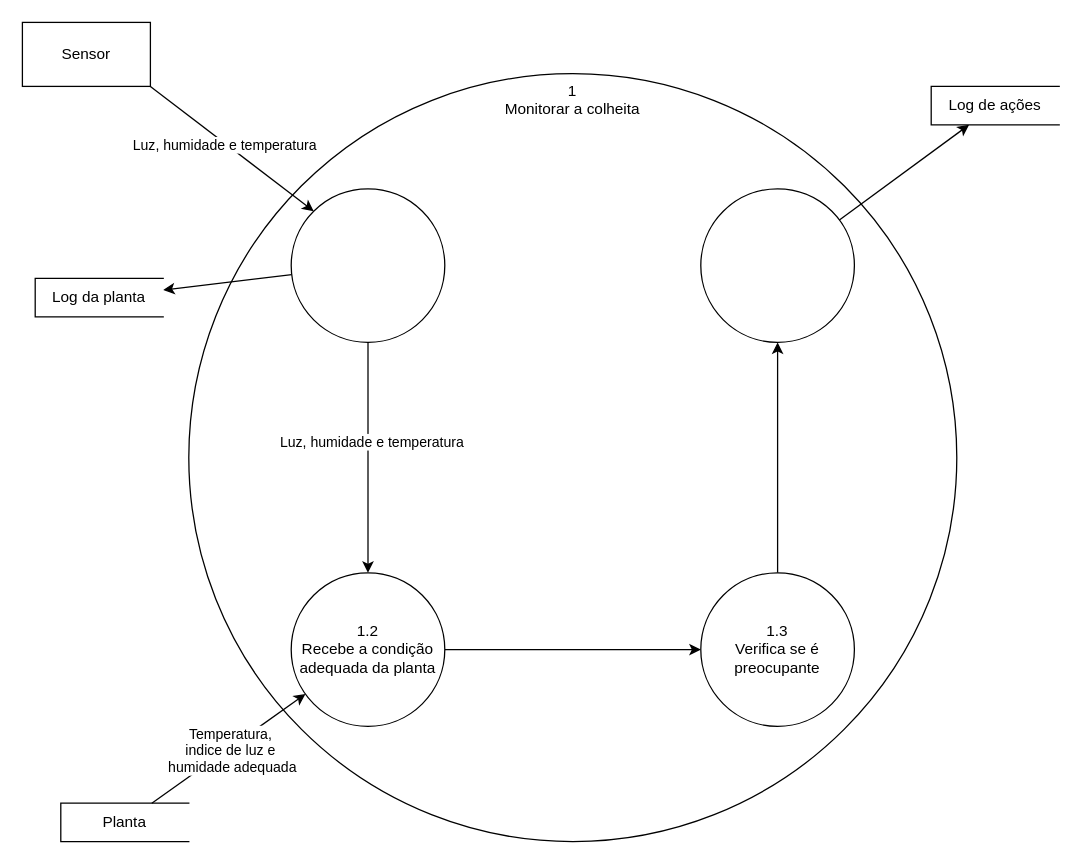
The diagram is 1082 pixels wide and 864 high, and some of its shapes have lost their labels. The box of each missing label's shape, as (x1, y1, x2, y2) in pixels:
1.1 Recebe informação da planta: (290, 188, 445, 342)
1.4 Emite um sinal ao sistema principal: (700, 188, 854, 342)
